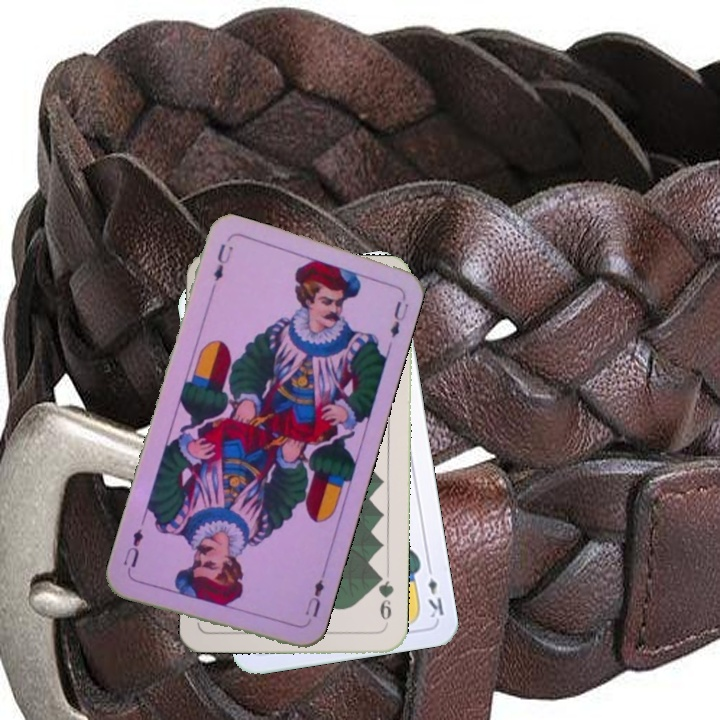EK: (423, 561, 447, 621)
EU: (206, 239, 236, 296), (301, 568, 328, 620)
G9: (373, 570, 396, 629)
